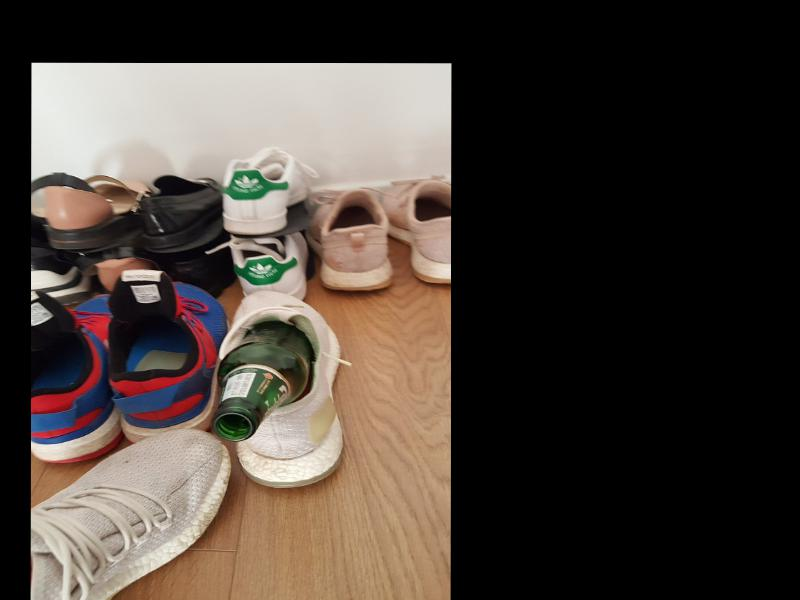Beer: (213, 322, 311, 440)
